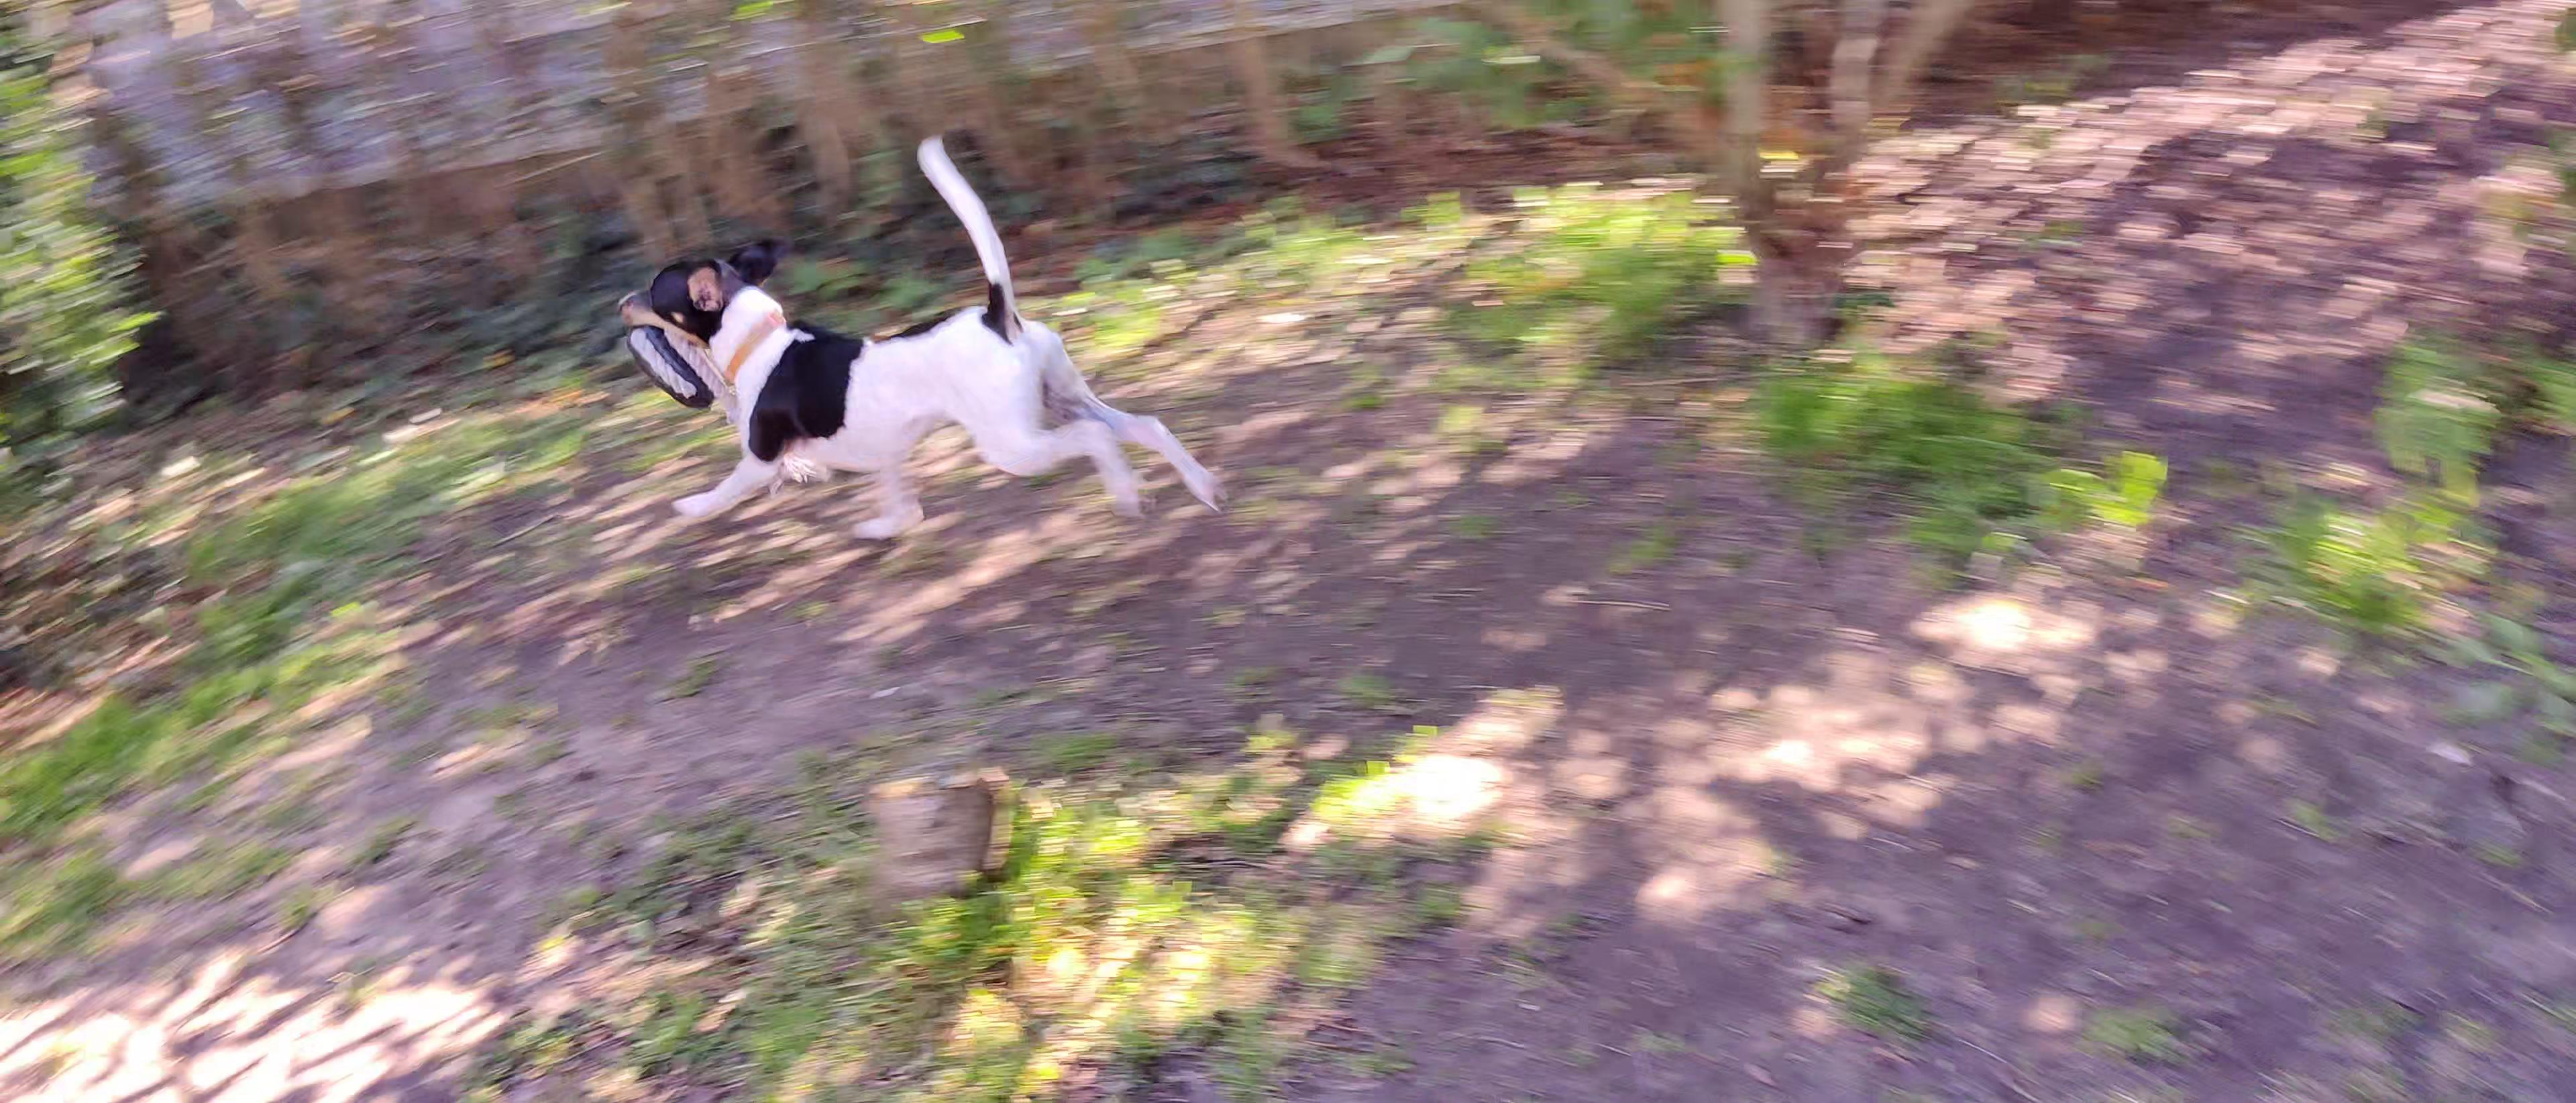Dog: (598, 115, 1247, 552)
